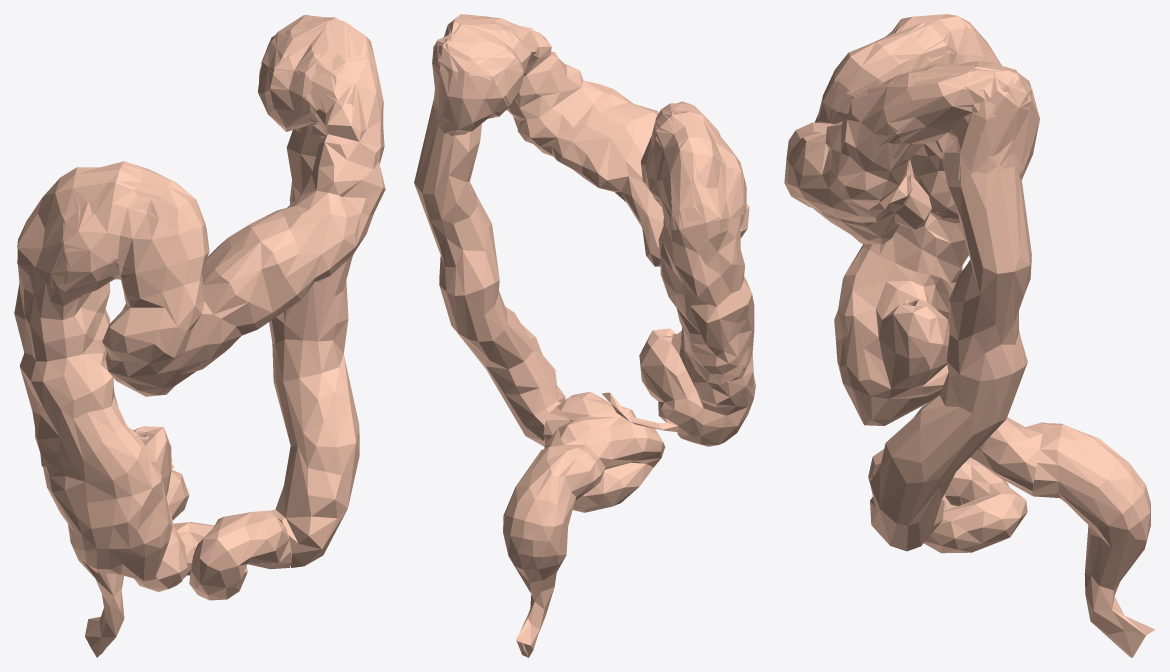
The model's file is SBU_M_Intestine_Large_0.2.glb.
The picture shows the model from 3 angles, left to right: view 1: azimuth 30°, elevation 25°; view 2: azimuth 150°, elevation 25°; view 3: azimuth 270°, elevation 25°; orthographic projection. The views are drawn at different scales.
Visible parts, largest first — view 1: VH_M_transverse_colon, VH_M_ascending_colon, VH_M_descending_colon, VH_M_caecum, VH_M_hepatic_flexure_of_colon, VH_M_sigmoid_colon, VH_M_splenic_flexure_of_colon, VH_M_rectum; view 2: VH_M_descending_colon, VH_M_transverse_colon, VH_M_ascending_colon, VH_M_rectum, VH_M_caecum, VH_M_sigmoid_colon, VH_M_splenic_flexure_of_colon, VH_M_hepatic_flexure_of_colon, VH_M_vermiform_appendix; view 3: VH_M_descending_colon, VH_M_transverse_colon, VH_M_caecum, VH_M_rectum, VH_M_sigmoid_colon, VH_M_splenic_flexure_of_colon, VH_M_ascending_colon, VH_M_hepatic_flexure_of_colon.
Boxes of the visible parts, x1=… form: VH_M_transverse_colon: x1=102, y1=15, x2=385, y2=396; VH_M_ascending_colon: x1=14, y1=164, x2=125, y2=468; VH_M_descending_colon: x1=259, y1=14, x2=359, y2=567; VH_M_caecum: x1=42, y1=423, x2=172, y2=580; VH_M_hepatic_flexure_of_colon: x1=17, y1=161, x2=209, y2=300; VH_M_sigmoid_colon: x1=134, y1=469, x2=291, y2=600; VH_M_splenic_flexure_of_colon: x1=258, y1=15, x2=383, y2=136; VH_M_rectum: x1=67, y1=523, x2=124, y2=657; VH_M_descending_colon: x1=414, y1=39, x2=565, y2=446; VH_M_transverse_colon: x1=443, y1=14, x2=749, y2=266; VH_M_ascending_colon: x1=648, y1=111, x2=754, y2=384; VH_M_rectum: x1=503, y1=445, x2=601, y2=657; VH_M_caecum: x1=639, y1=328, x2=755, y2=446; VH_M_sigmoid_colon: x1=543, y1=391, x2=665, y2=512; VH_M_splenic_flexure_of_colon: x1=432, y1=14, x2=536, y2=135; VH_M_hepatic_flexure_of_colon: x1=641, y1=101, x2=746, y2=230; VH_M_vermiform_appendix: x1=602, y1=392, x2=678, y2=431; VH_M_descending_colon: x1=870, y1=71, x2=1039, y2=551; VH_M_transverse_colon: x1=784, y1=17, x2=1011, y2=244; VH_M_caecum: x1=834, y1=247, x2=952, y2=425; VH_M_rectum: x1=1032, y1=423, x2=1155, y2=657; VH_M_sigmoid_colon: x1=868, y1=417, x2=1043, y2=553; VH_M_splenic_flexure_of_colon: x1=867, y1=61, x2=1039, y2=179; VH_M_ascending_colon: x1=861, y1=14, x2=1001, y2=289; VH_M_hepatic_flexure_of_colon: x1=818, y1=16, x2=1000, y2=123.
Bounding box in the file's own units: 0.2598 × 0.4516 × 0.2272.
